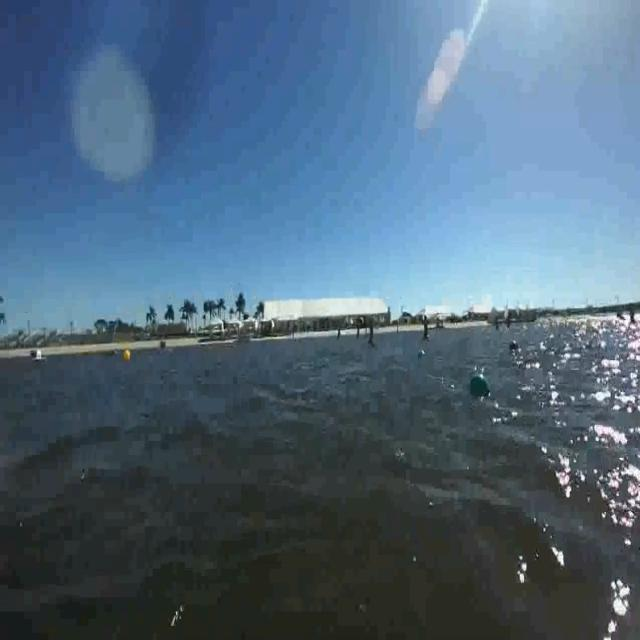yellow-buoy: (123, 346, 136, 369)
